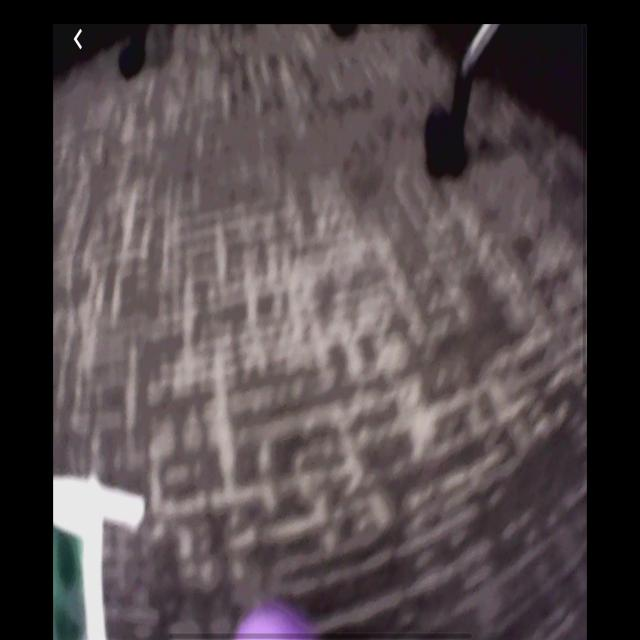ball: (232, 606, 316, 640)
